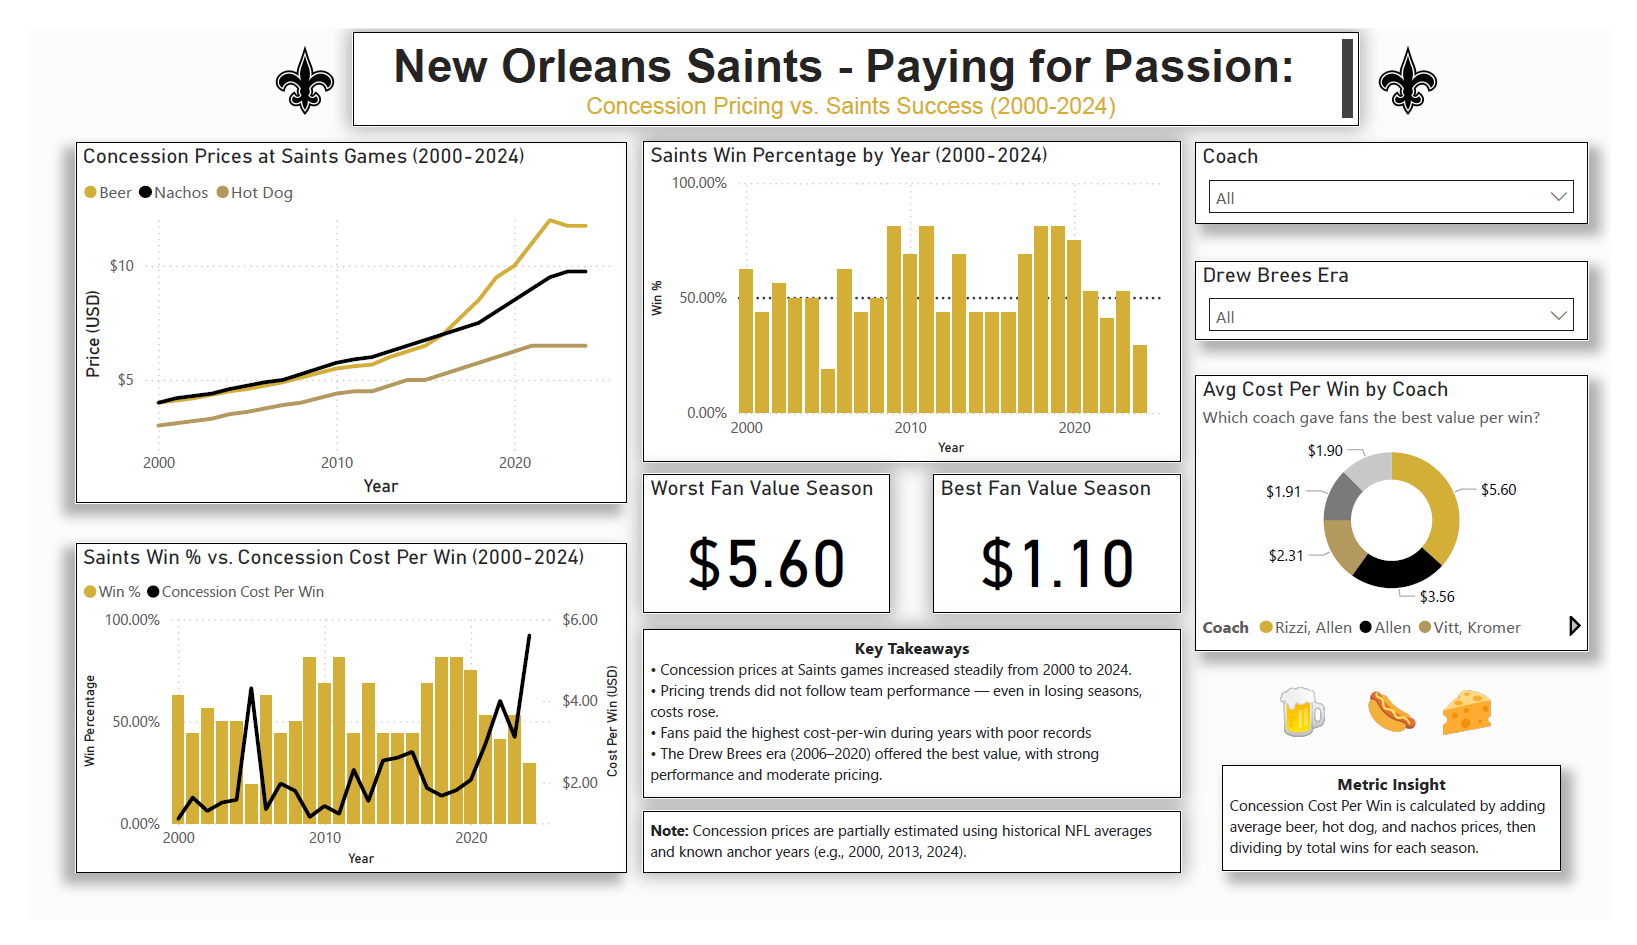

Layout of this report page (visuals, bound fields, positions):
{"tool":"powerbi","page":{"name":"Page 1","canvas":[1280,720],"ordinal":0},"visuals":[{"type":"lineChart","title":"Concession Prices at Saints Games (2000-2024)","fields":{"Y":["Concessions.Beer Price ","Concessions.Nachos Price ","Concessions. Avg Hot Dog Price "],"Category":["Performance.Year"]},"box":[38.4,91.9,446,292.3],"z":0},{"type":"clusteredColumnChart","title":"Saints Win Percentage by Year (2000-2024)","fields":{"Category":["Performance.Year"],"Y":["Performance.Win %"]},"box":[497,91.4,435.7,260],"z":1000},{"type":"lineClusteredColumnComboChart","title":"Saints Win % vs. Concession Cost Per Win (2000-2024)","fields":{"Category":["Concessions.Year"],"Y":["Performance.Win %"],"Y2":["Concessions.Concession_Cost_Per_Win"]},"box":[38.4,415.8,446,267.6],"z":2000},{"type":"card","title":"Worst Fan Value Season","fields":{"Values":["Concessions.Concession_Cost_Per_Win"]},"box":[497,359.9,200.4,112.8],"z":3000},{"type":"card","title":"Best Fan Value Season","fields":{"Values":["Concessions.Concession_Cost_Per_Win"]},"box":[732.4,359.9,200.4,112.8],"z":4000},{"type":"slicer","title":"Coach","fields":{"Values":["Performance.Coach"]},"box":[944.1,91.9,318.4,65.9],"z":5000},{"type":"slicer","title":"Drew Brees Era","fields":{"Values":["Performance.Drew_Brees_Era"]},"box":[944.1,188,318.4,64.5],"z":6000},{"type":"textbox","box":[261.6,3.5,815.1,75.6],"z":7000},{"type":"textbox","box":[496.5,486,436,137.2],"z":8000},{"type":"textbox","box":[497,633.2,435.7,49.6],"z":9000},{"type":"donutChart","title":"Avg Cost Per Win by Coach","fields":{"Category":["Performance.Coach"],"Y":["Concessions.Concession_Cost_Per_Win"]},"box":[944.1,279.9,318.4,223.7],"z":10000},{"type":"image","box":[184.8,3.7,77.1,75.9],"z":11000},{"type":"image","box":[1000.3,528.3,60.4,49.4],"z":12000},{"type":"image","box":[1076.8,3.7,77.1,75.9],"z":13000},{"type":"image","box":[1073.1,528.3,60.4,49.4],"z":14000},{"type":"image","box":[1133.5,528.3,60.4,49.4],"z":15000},{"type":"textbox","box":[966,595.5,274.4,86.4],"z":16000}]}

Visuals, with their boxes in screenshot pixels (x1, y1, x2, y2), scaled from the page's 1280x720 canvas onto the 1637x945 screenshot:
"Concession Prices at Saints Games (2000-2024)" lineChart: 49:121:620:504
"Saints Win Percentage by Year (2000-2024)" clusteredColumnChart: 636:120:1193:461
"Saints Win % vs. Concession Cost Per Win (2000-2024)" lineClusteredColumnComboChart: 49:546:620:897
"Worst Fan Value Season" card: 636:472:892:620
"Best Fan Value Season" card: 937:472:1193:620
"Coach" slicer: 1207:121:1615:207
"Drew Brees Era" slicer: 1207:247:1615:331
textbox: 335:5:1377:104
textbox: 635:638:1193:818
textbox: 636:831:1193:896
"Avg Cost Per Win by Coach" donutChart: 1207:367:1615:661
image: 236:5:335:104
image: 1279:693:1357:758
image: 1377:5:1476:104
image: 1372:693:1450:758
image: 1450:693:1527:758
textbox: 1235:782:1586:895
